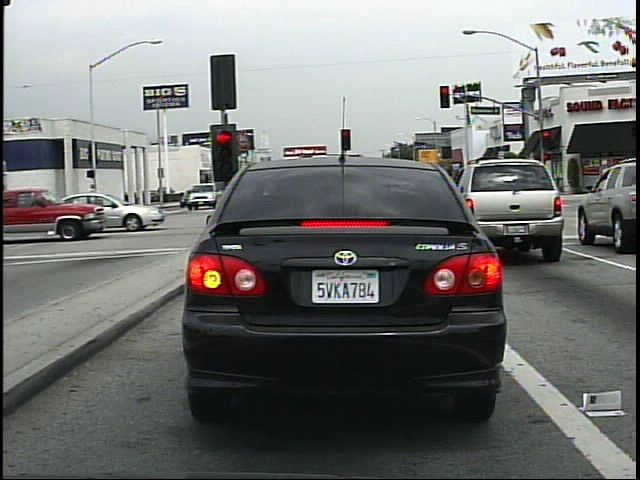person: (86, 183, 107, 218)
